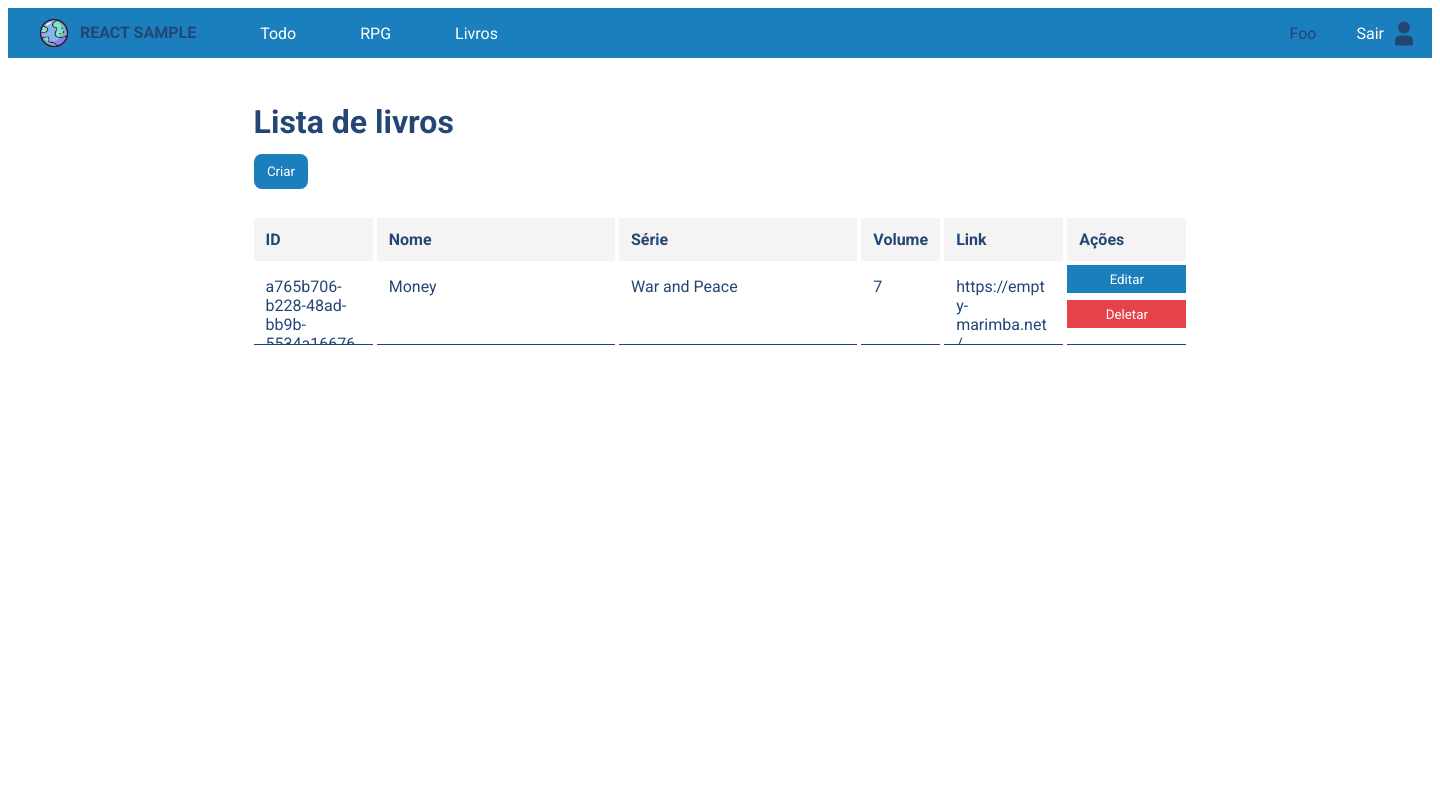
Test case: BookPage › deve exibir modal para deletar livro da lista
What coordinates should you click on to do the following:
click the button "Deletar"
I would click on:
 (1127, 314)
Its box is [1067, 300, 1186, 328].
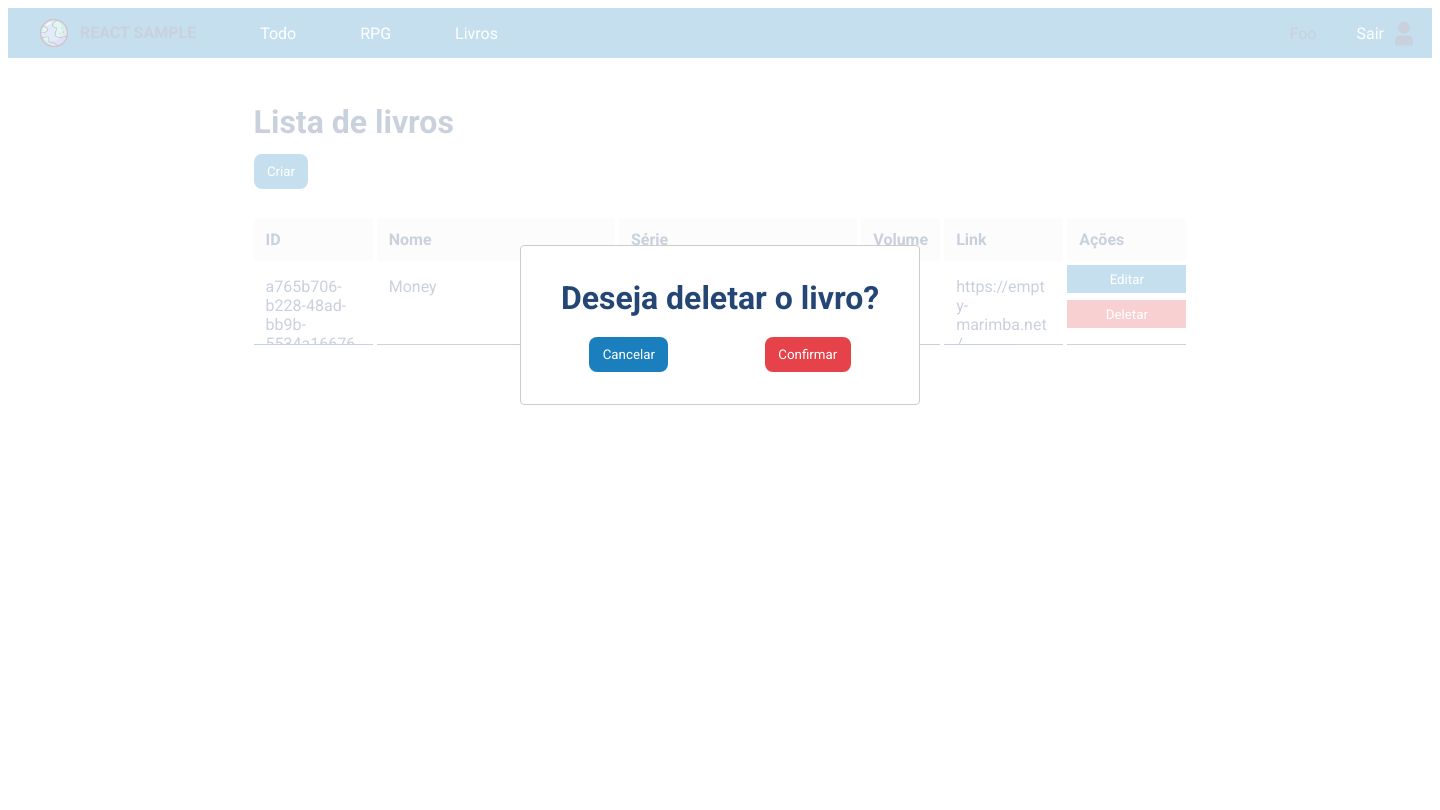
Check: the heading "Deseja deletar o livro?" is shown, box [541, 279, 899, 317]
Check: the button "Confirmar" is shown, box [765, 337, 851, 372]
Check: the button "Cancelar" is shown, box [589, 337, 668, 372]
